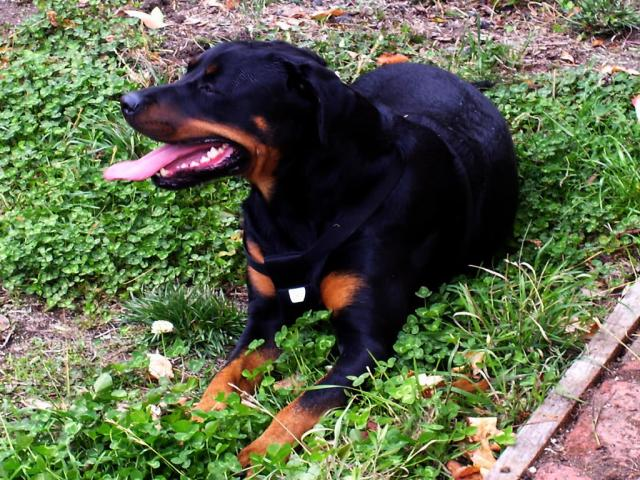Dog: (103, 40, 522, 470)
